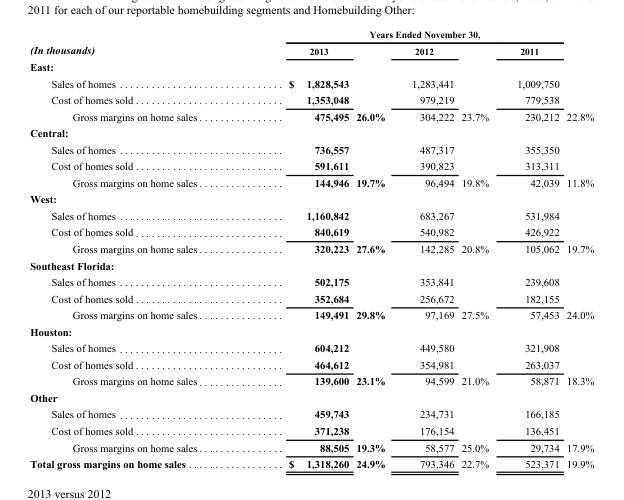table: (29, 28, 593, 469)
table column: (29, 28, 242, 469), (242, 28, 351, 469), (397, 28, 457, 469), (502, 28, 562, 469), (351, 28, 397, 469), (457, 28, 502, 469), (562, 28, 593, 469)
table column header: (29, 28, 593, 58)
table projected row header: (29, 190, 593, 207), (29, 256, 593, 273), (29, 322, 593, 339), (29, 58, 593, 74), (29, 124, 593, 140), (29, 389, 593, 405)
table row: (29, 74, 593, 91), (29, 107, 593, 124), (29, 140, 593, 157), (29, 173, 593, 190), (29, 190, 593, 207), (29, 223, 593, 240), (29, 256, 593, 273), (29, 289, 593, 306), (29, 322, 593, 339), (29, 355, 593, 372), (29, 372, 593, 389), (29, 405, 593, 422), (29, 438, 593, 455), (29, 42, 593, 58), (29, 58, 593, 74), (29, 91, 593, 107), (29, 124, 593, 140), (29, 157, 593, 173), (29, 207, 593, 223), (29, 240, 593, 256), (29, 273, 593, 289), (29, 306, 593, 322), (29, 339, 593, 355), (29, 389, 593, 405), (29, 422, 593, 438), (29, 28, 593, 42), (29, 455, 593, 469)
table spanning cell: (29, 28, 242, 58), (242, 28, 562, 42)
